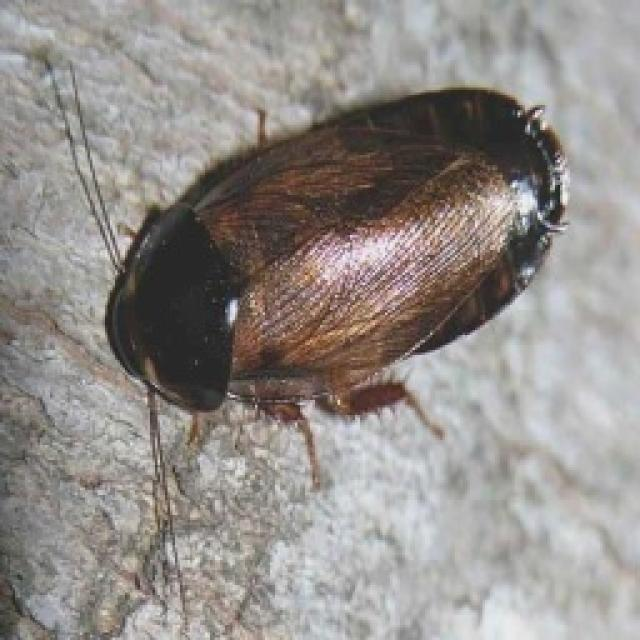cockroach: (63, 55, 592, 486)
